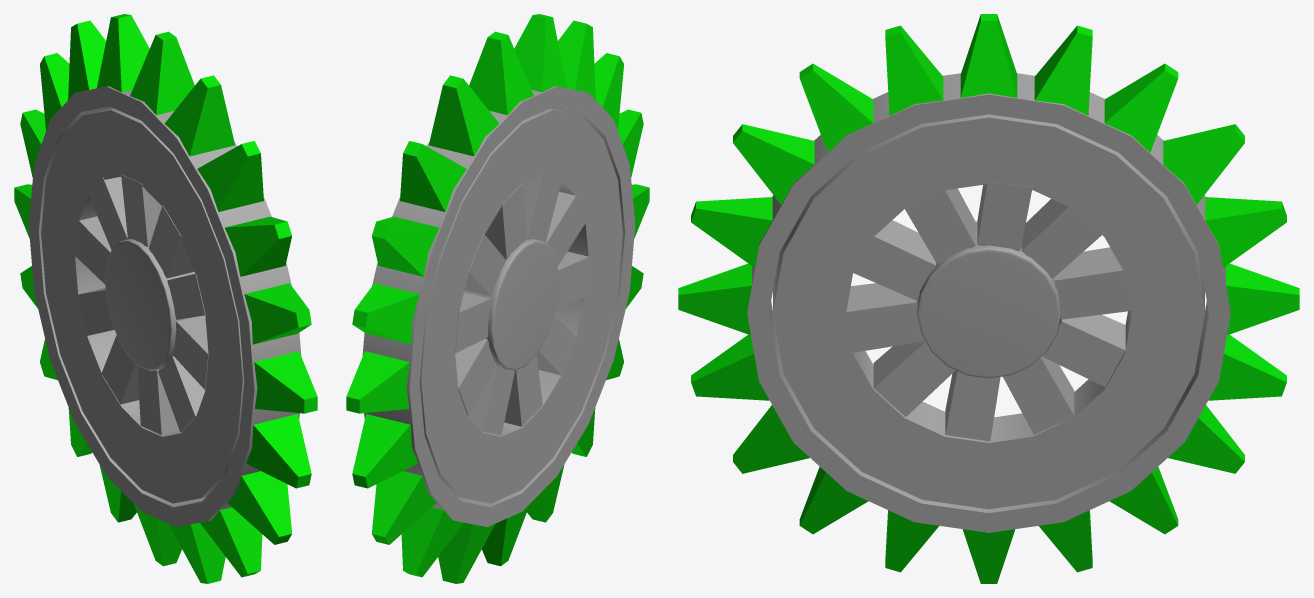
The model's file is chakra_lp.fbx.
3 views of the same model, side by side, from view 1: azimuth 30°, elevation 25°; view 2: azimuth 150°, elevation 25°; view 3: azimuth 270°, elevation 25° (orthographic). The views are drawn at different scales.
Parts seen in each view (by area): view 1: chakra_frame, centre; view 2: chakra_frame, centre; view 3: chakra_frame, centre.
Boxes of the visible parts, bbox=[...] form: chakra_frame: bbox=[14, 14, 317, 583]; centre: bbox=[105, 239, 194, 370]; chakra_frame: bbox=[346, 14, 649, 583]; centre: bbox=[464, 239, 558, 370]; chakra_frame: bbox=[678, 14, 1299, 583]; centre: bbox=[916, 221, 1061, 378].
Size of the model in its own units: 80.32 by 698 by 698.
